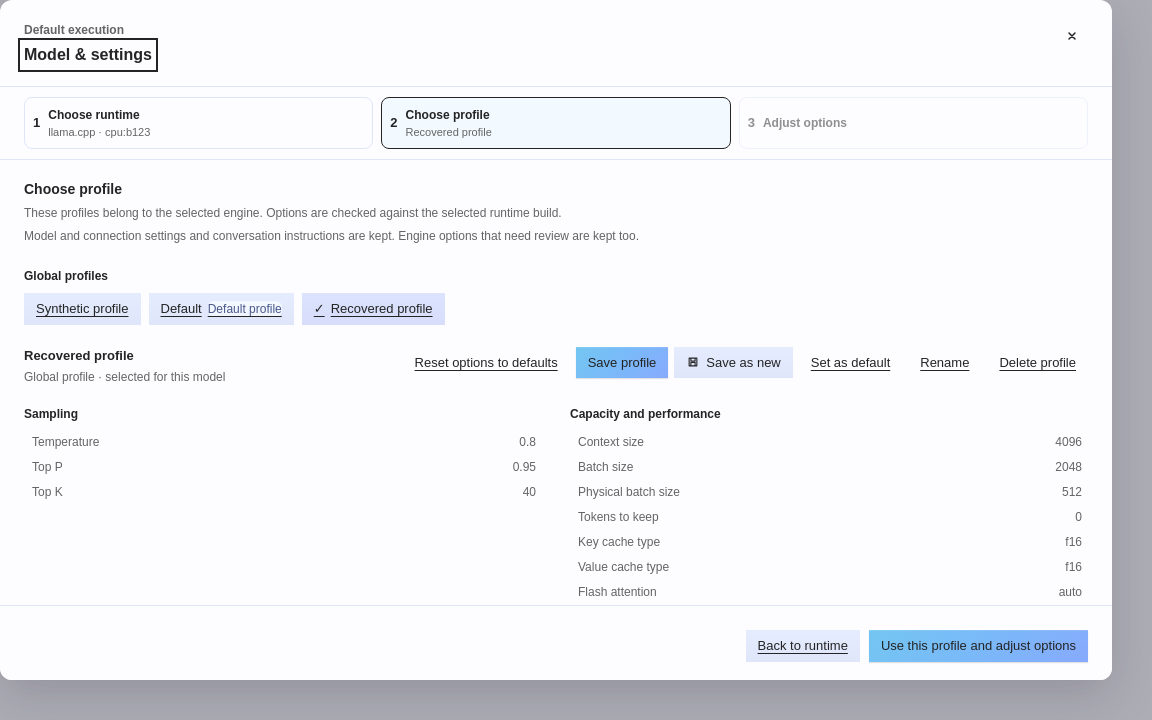
Test: model settings editor › previews a profile without changing editor values and applies it immediately without closing
This screenshot has width=1152, height=720.
Click the button "Synthetic profile": (82, 309) [24,293,140,325]
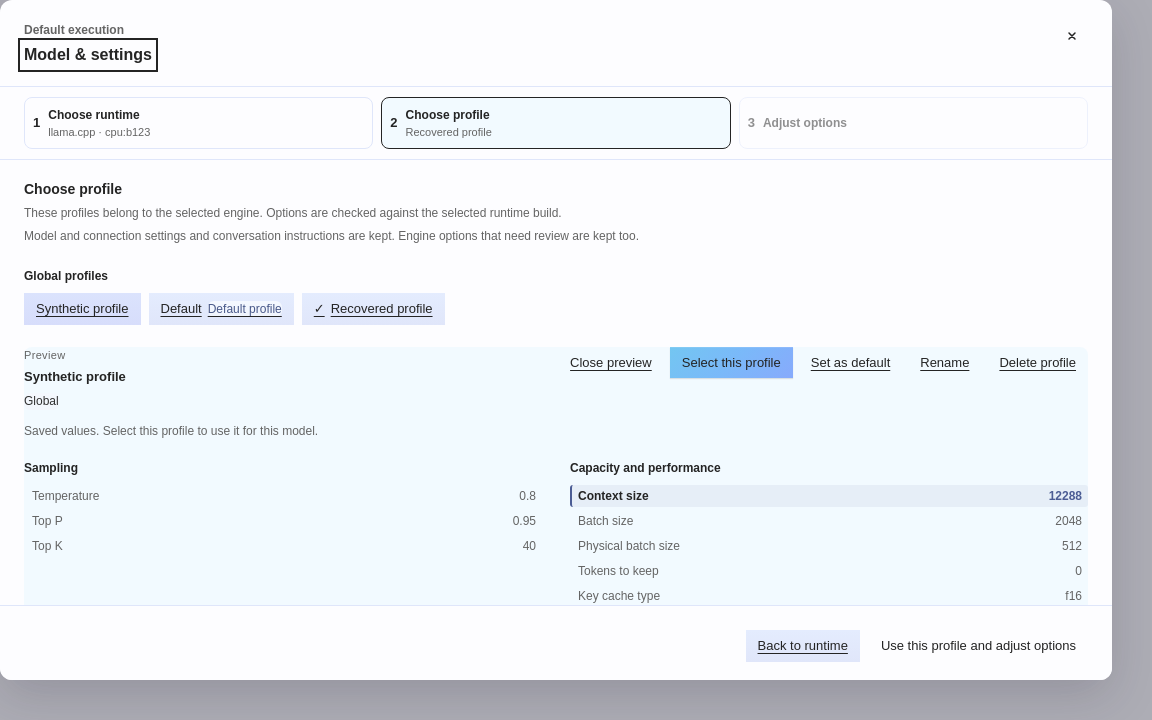
Now the element "Preview" shows "12288", box [1049,489,1082,503]
Click the button "Select this profile": (731, 362) [670,347,793,378]
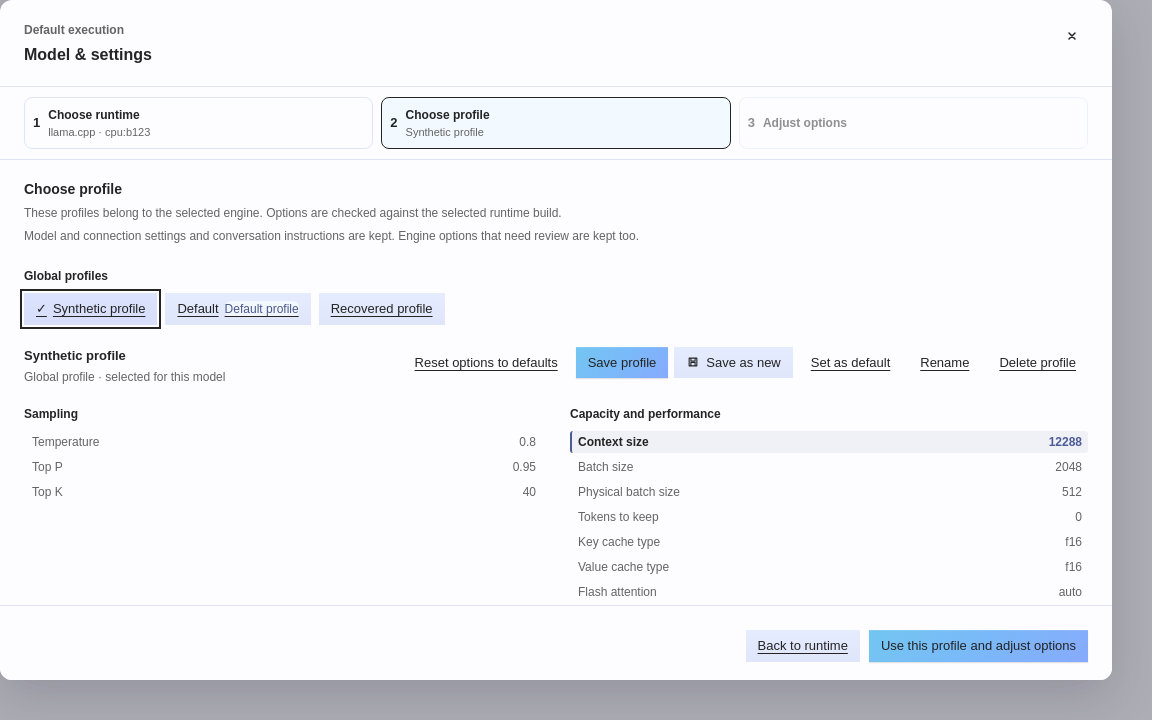
Now the text "Preview" is gone
Now the button with aria-label "Synthetic profile · Selected" is shown, box [24,293,157,325]
